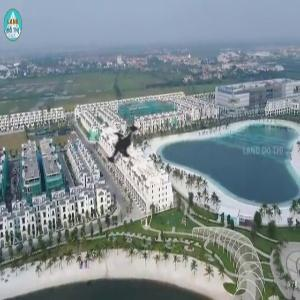drone: (76, 101, 165, 190)
